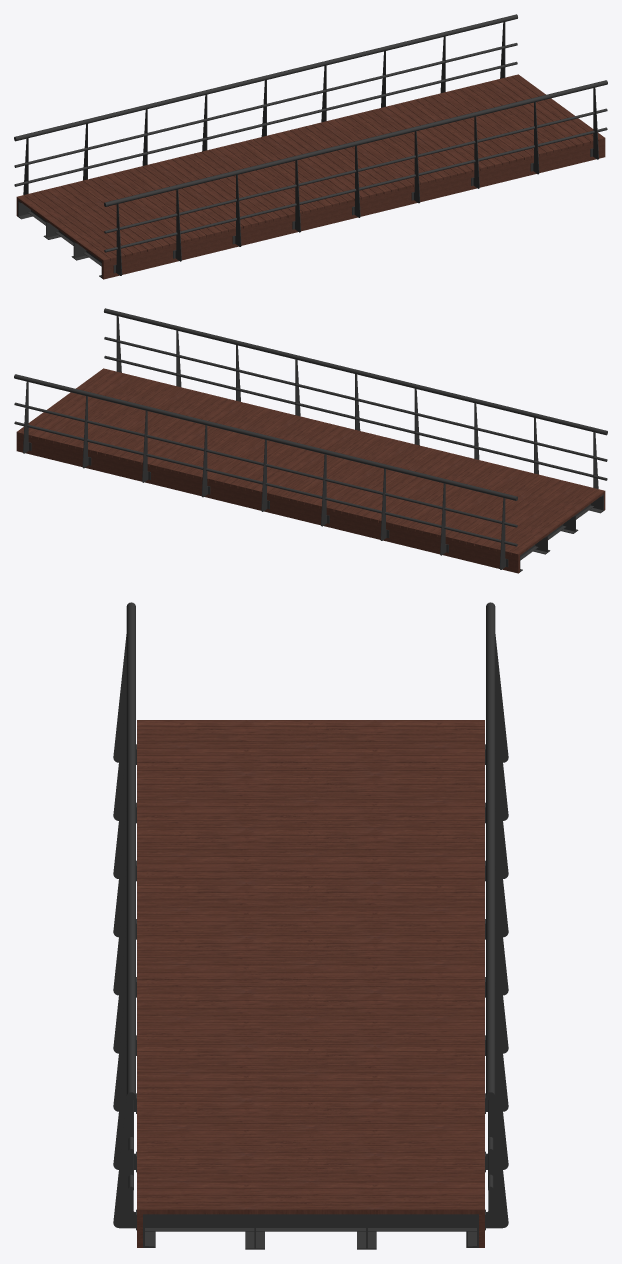
File: Beam_Steel.glb
3 renders of one model, top to bottom at view 1: azimuth 30°, elevation 25°; view 2: azimuth 150°, elevation 25°; view 3: azimuth 270°, elevation 25°, orthographic. The views are drawn at different scales.
Bounding box in the file's own units: 10 × 1.5 × 3.41.
2 materials, 1 textured.
